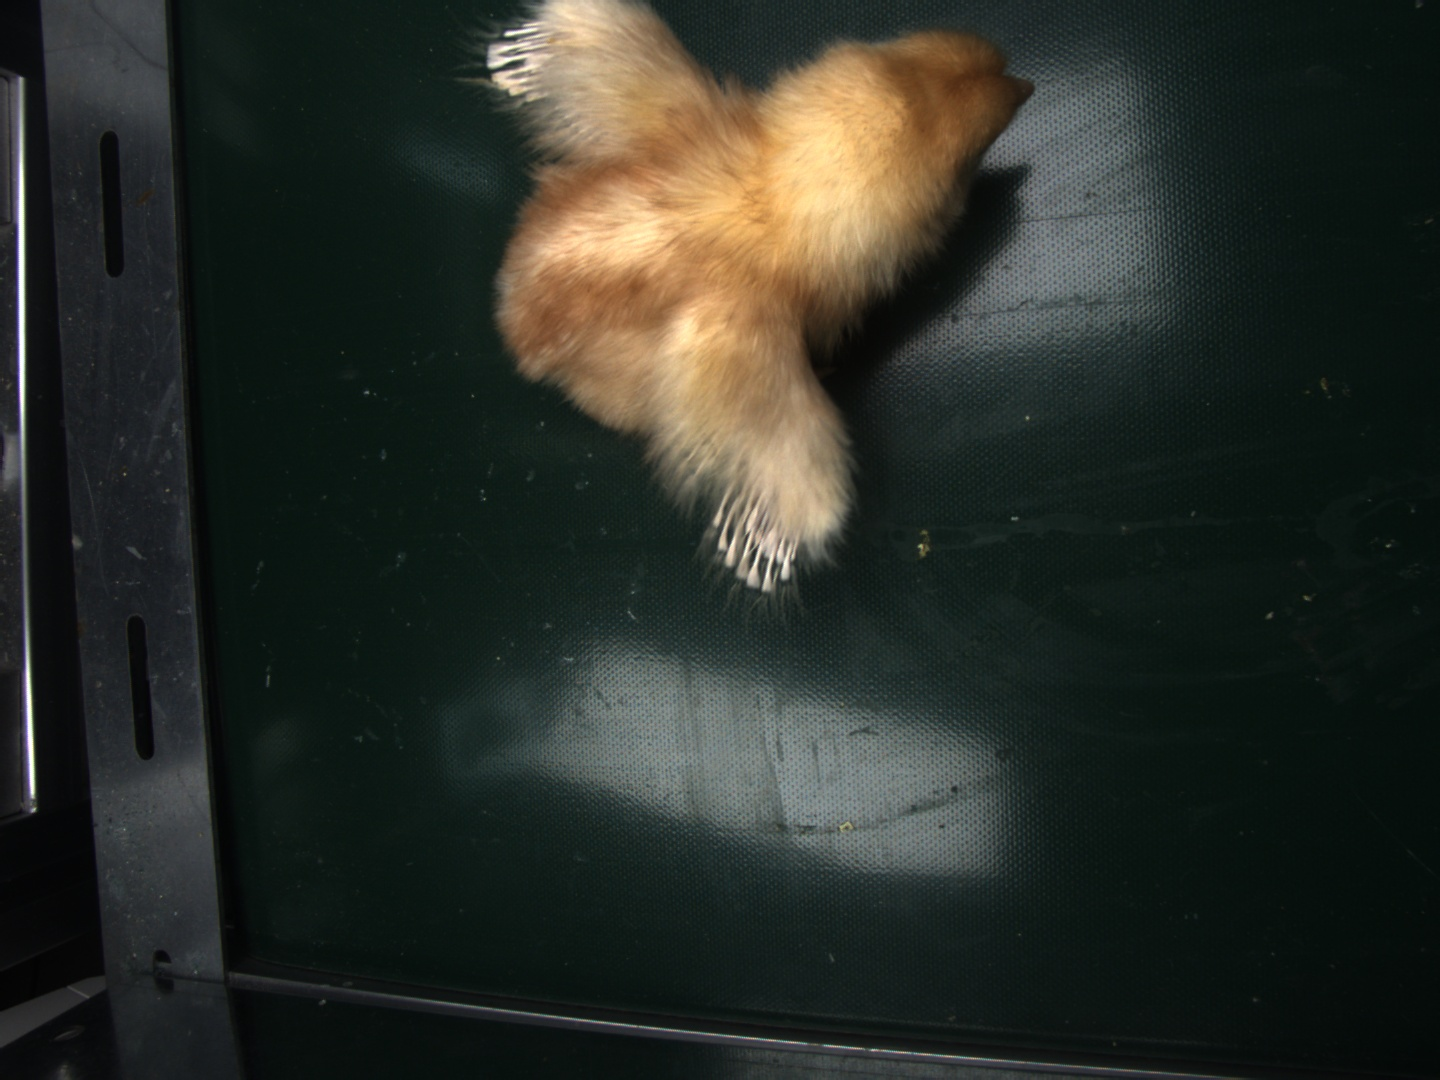female: (714, 484, 801, 589)
